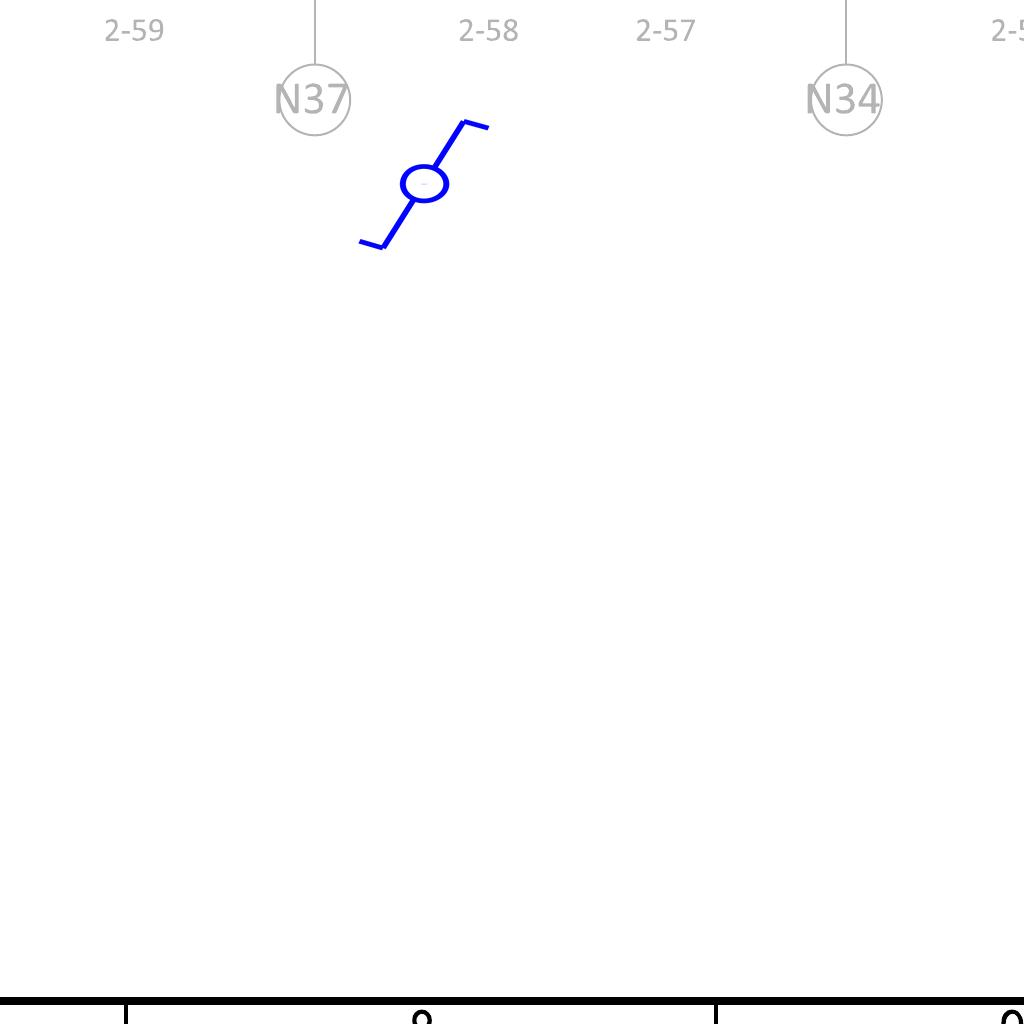Wechselschalter: (354, 114, 511, 258)
